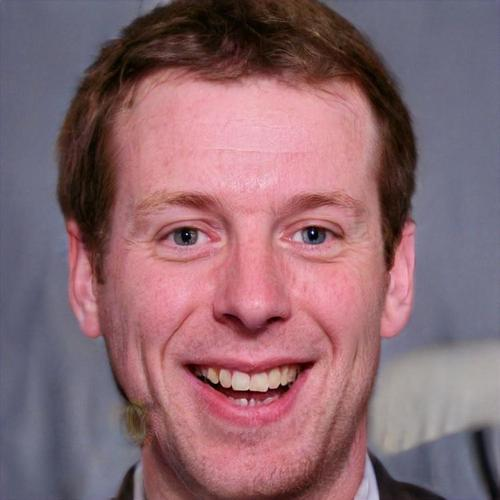no_mask: (94, 63, 398, 492)
